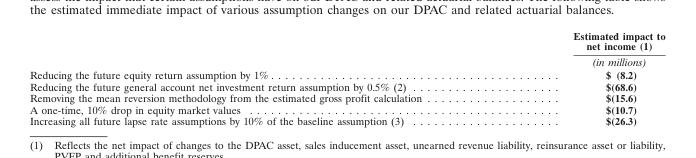table: (28, 29, 664, 127)
table column: (28, 29, 496, 127), (496, 29, 664, 127)
table column header: (28, 29, 664, 67)
table row: (28, 29, 664, 67), (28, 67, 664, 80), (28, 114, 664, 127), (28, 91, 664, 103), (28, 80, 664, 91), (28, 103, 664, 114)
